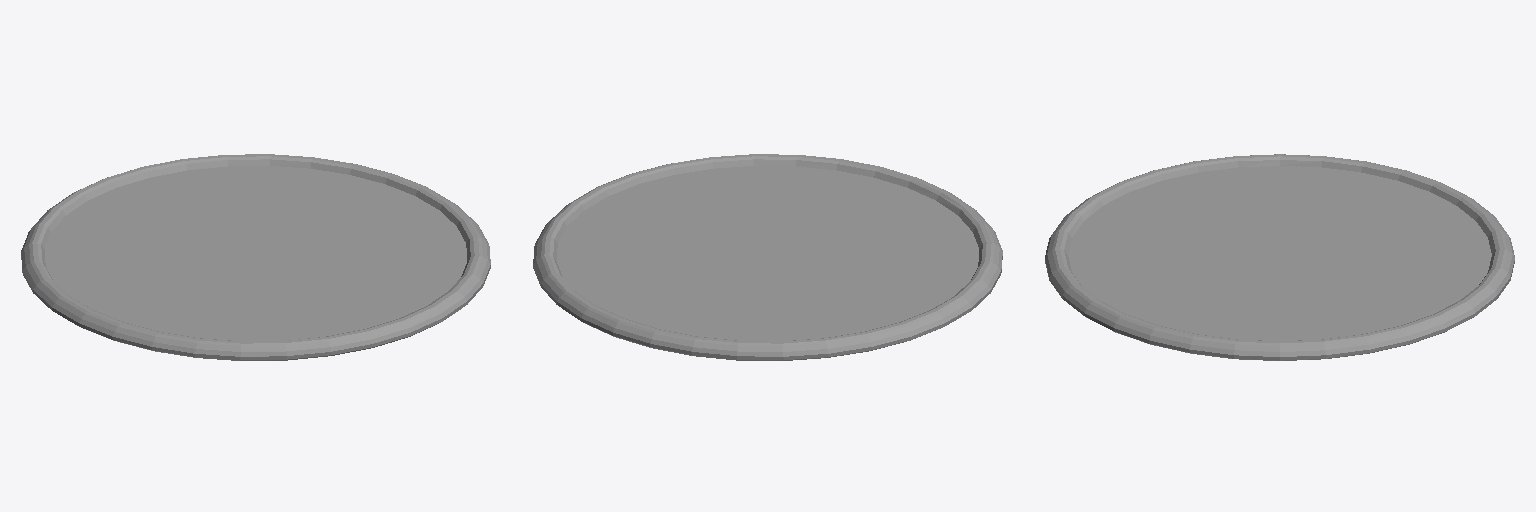
File: pizza.obj
The picture shows the model from 3 angles: view 1: azimuth 30°, elevation 25°; view 2: azimuth 150°, elevation 25°; view 3: azimuth 270°, elevation 25°; orthographic projection.
Visible parts, largest first — view 1: Pizza_Circle; view 2: Pizza_Circle; view 3: Pizza_Circle.
Part boxes in pixels (bbox=[...]): Pizza_Circle: bbox=[21, 154, 490, 360]; Pizza_Circle: bbox=[533, 154, 1002, 360]; Pizza_Circle: bbox=[1045, 154, 1514, 360].
Bounding box in the file's own units: 2.22 × 0.0738 × 2.22.